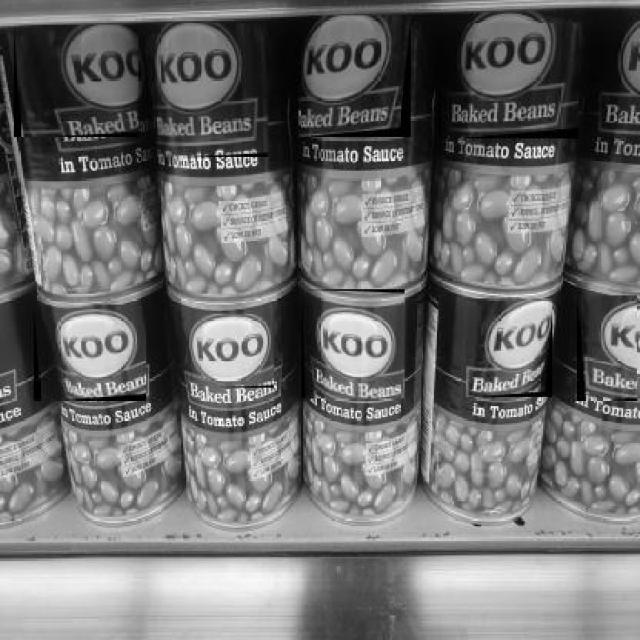Beans: (438, 23, 580, 140), (156, 23, 270, 159), (14, 24, 140, 138), (299, 15, 413, 139), (302, 289, 407, 400), (34, 304, 148, 402), (466, 298, 554, 398), (182, 314, 276, 389), (577, 296, 638, 402)
